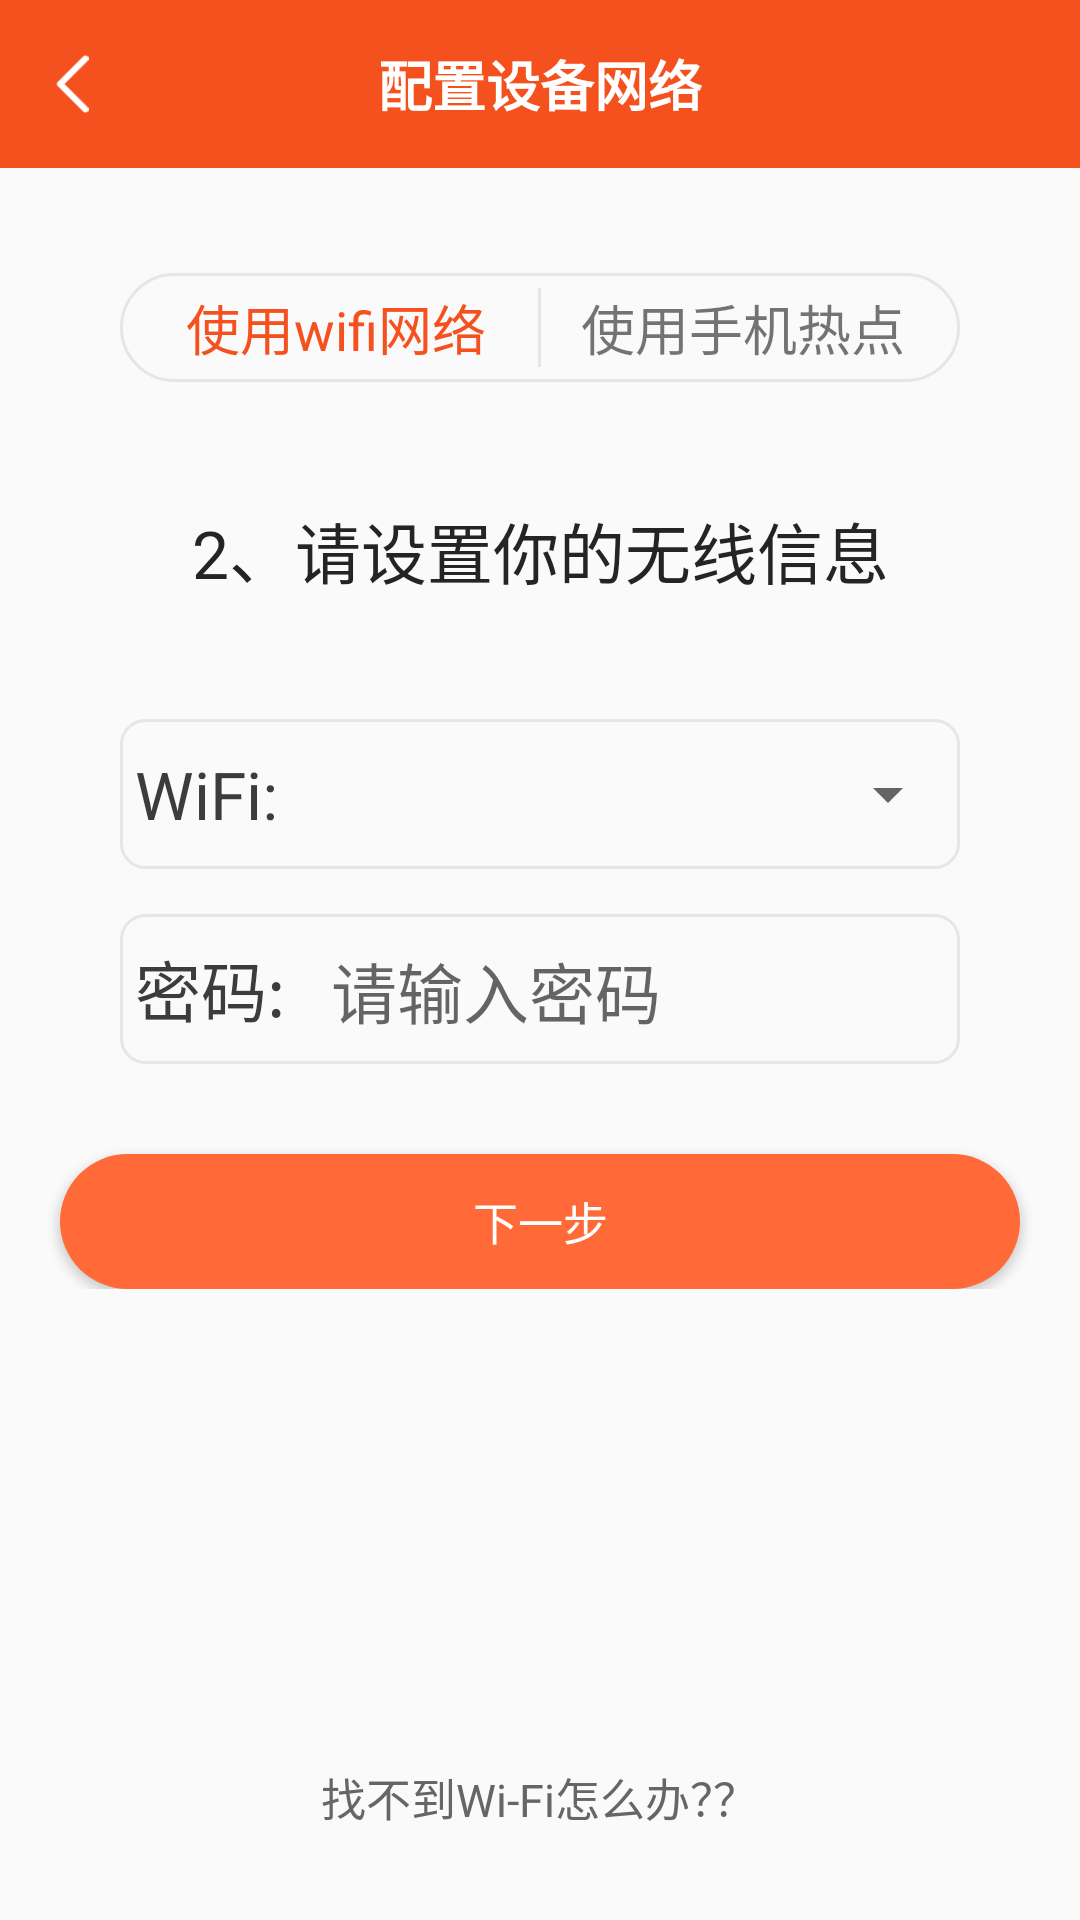

Screen size 1080 x 1920. Icon name, then its box in pixels as bbox=(x1, y1, x2, y2):
fanhui: bbox=(56, 55, 89, 113)
